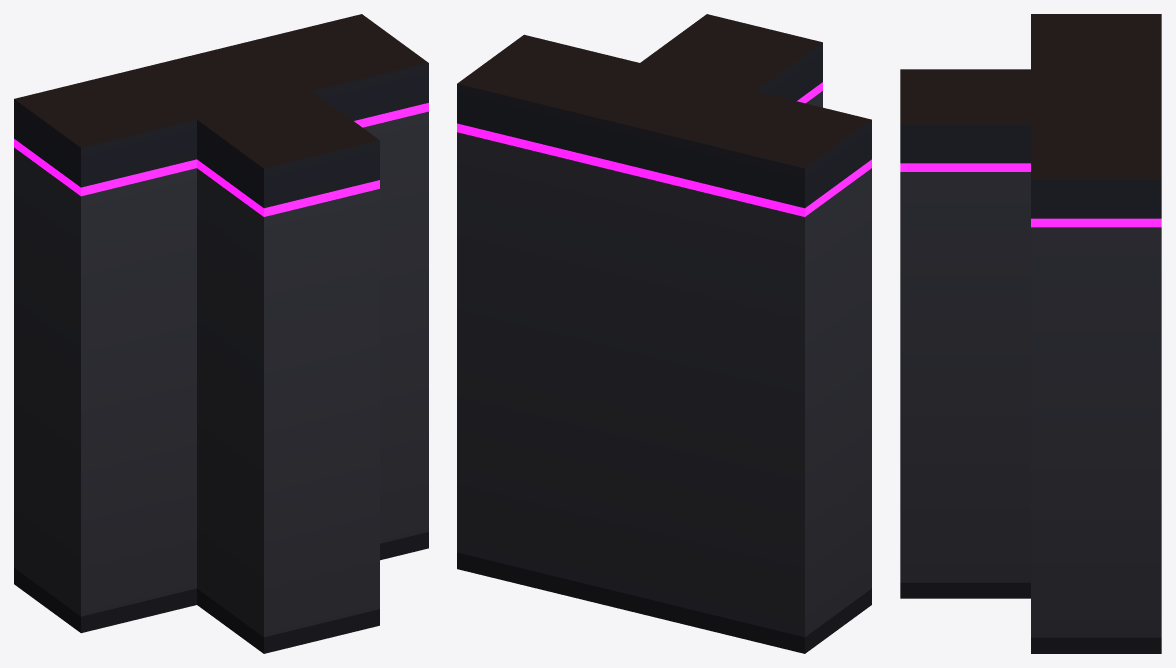
File: WallT32.fbx
3 views of the same model, side by side, from view 1: azimuth 30°, elevation 25°; view 2: azimuth 150°, elevation 25°; view 3: azimuth 270°, elevation 25° (orthographic). The views are drawn at different scales.
Visible parts, largest first — view 1: WallT32; view 2: WallT32; view 3: WallT32.
Boxes of the visible parts, left/top/right/bottom form: WallT32: left=14, top=14, right=428, bottom=653; WallT32: left=457, top=14, right=871, bottom=653; WallT32: left=900, top=14, right=1161, bottom=653.
Bounding box in the file's own units: 300 × 400 × 200.
